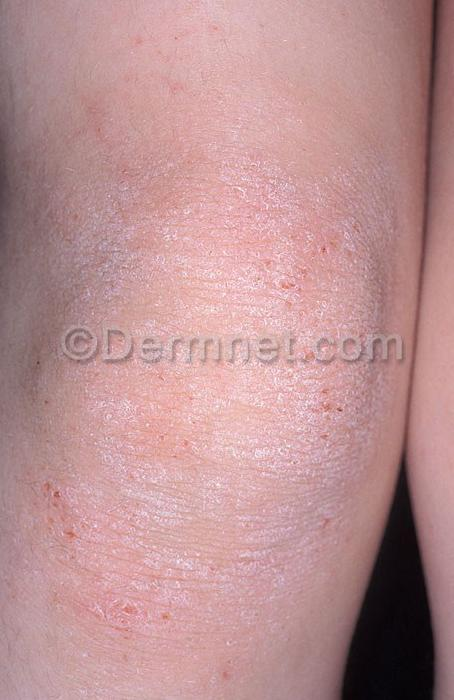exudacion 1: (253, 215, 368, 443), (34, 475, 183, 624)
xerosis 1: (23, 124, 401, 659)
